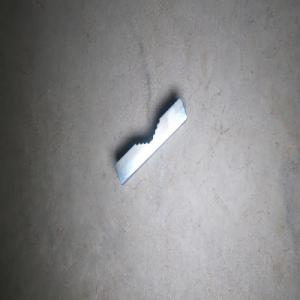ClampPart: (114, 96, 188, 186)
